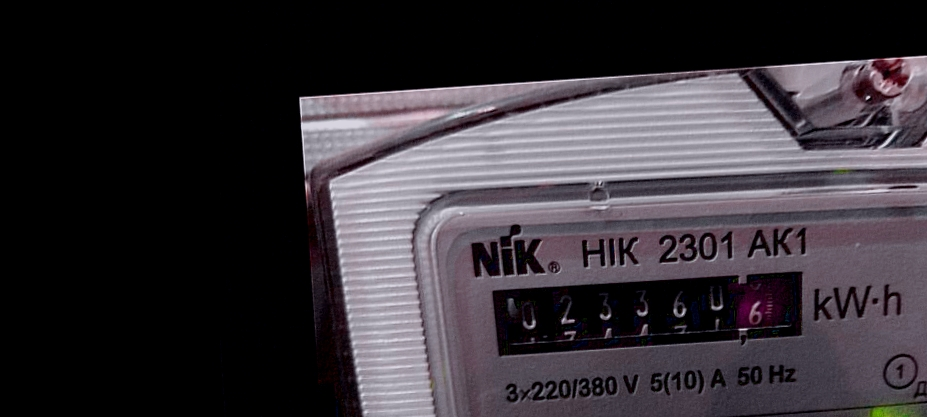0: (518, 298, 541, 332), (708, 281, 727, 313)
2: (556, 292, 581, 327)
3: (594, 290, 617, 323), (633, 286, 654, 318)
6: (669, 287, 691, 320), (745, 297, 767, 327)
screen: (474, 252, 822, 373)
